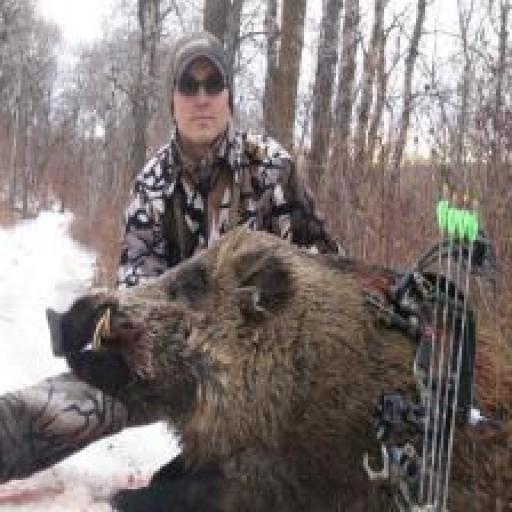Pig: (45, 221, 512, 512)
